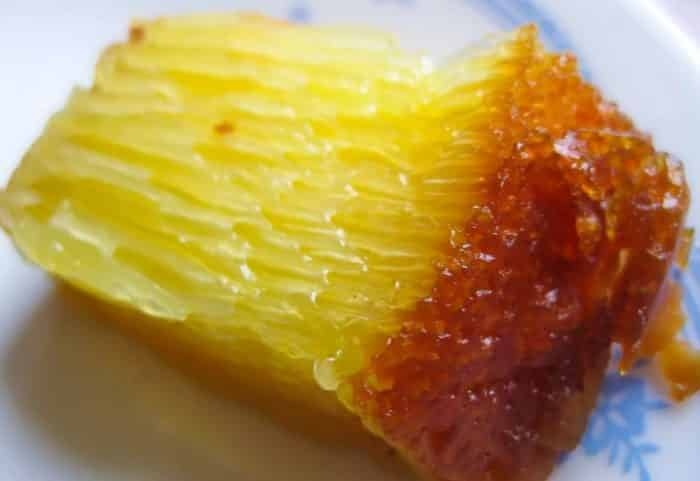bika_ambon: (10, 4, 531, 377)
